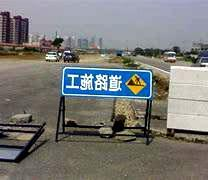sign: (63, 67, 151, 98)
